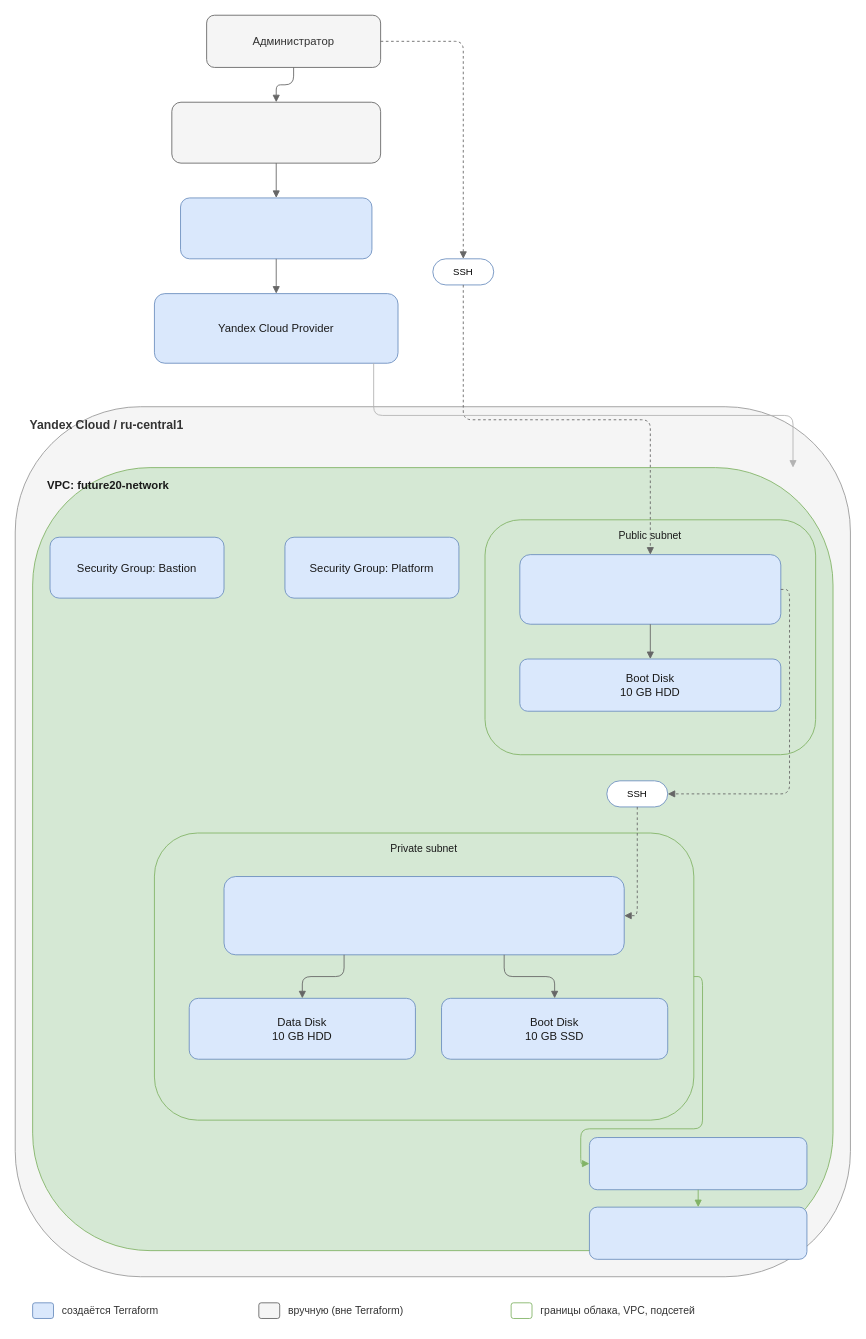
Some shapes in this 866 by 1339 pixel diagram are drawn without their labels. The shapes that lost their labels are listed below. From the top down, each one's centre as x and y in pixels, then its label:
At [276,132]: "Git Repository Terraform source".
At [276,228]: "Terraform CLI".
At [650,589]: "Bastion VM 2 vCPU / 2 GB core_fraction 20%".
At [423,915]: "Data Platform VM 4 vCPU / 8 GB RAM core_fraction 20%".
At [698,1163]: "Private Route Table".
At [698,1232]: "NAT Gateway".
